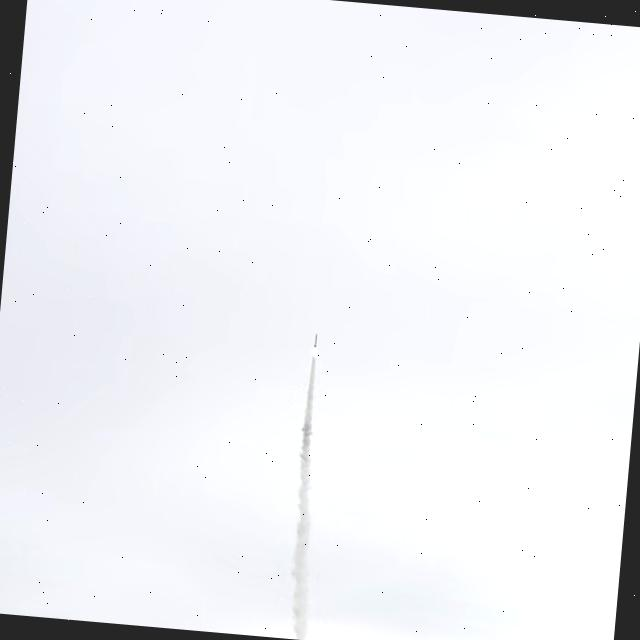smoke_trail_with_rocket: (292, 336, 315, 640)
